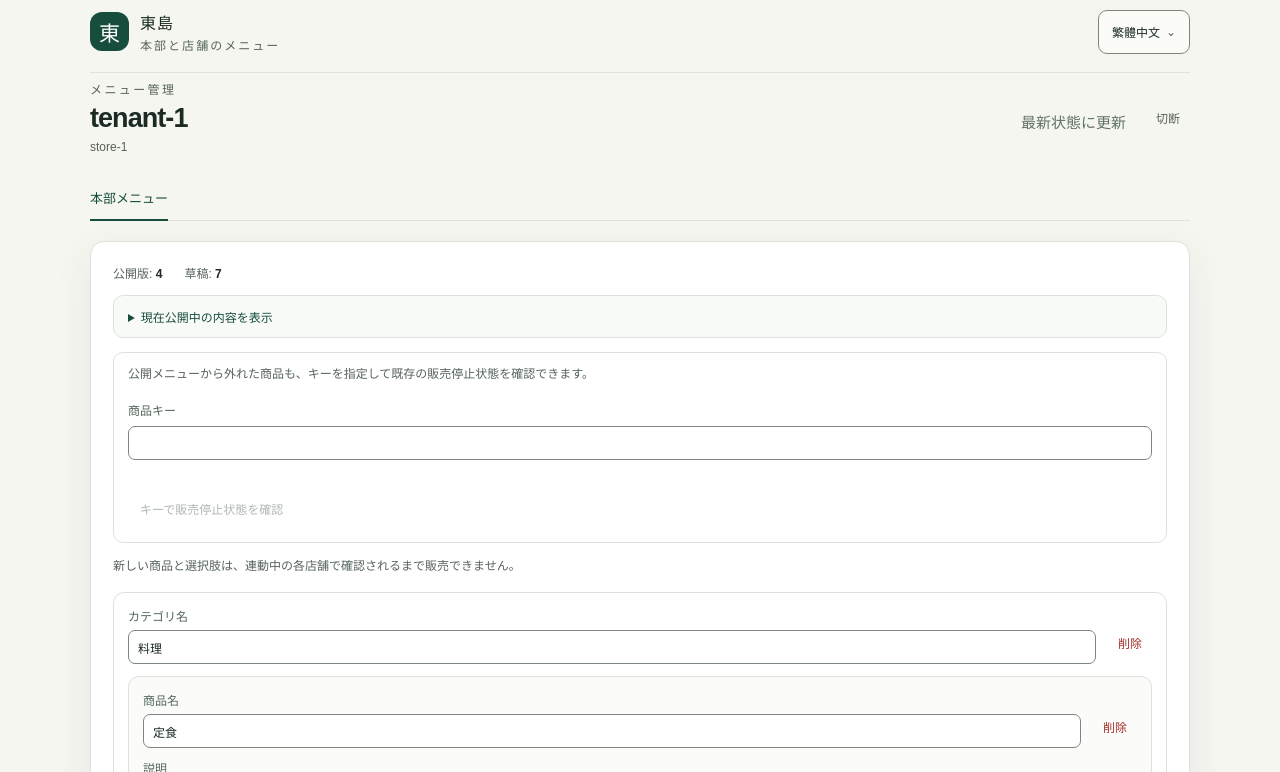
Test: catalog admin UI › fails closed when current hold state cannot be reloaded after a successful write
Expected: the button "切断" is shown, [1146, 95, 1190, 139]
Expected: the button "最新状態に更新" is enabled, [1015, 110, 1132, 132]
Click the heading "現在公開中の内容を表示" at (207, 318), box [141, 311, 273, 325]
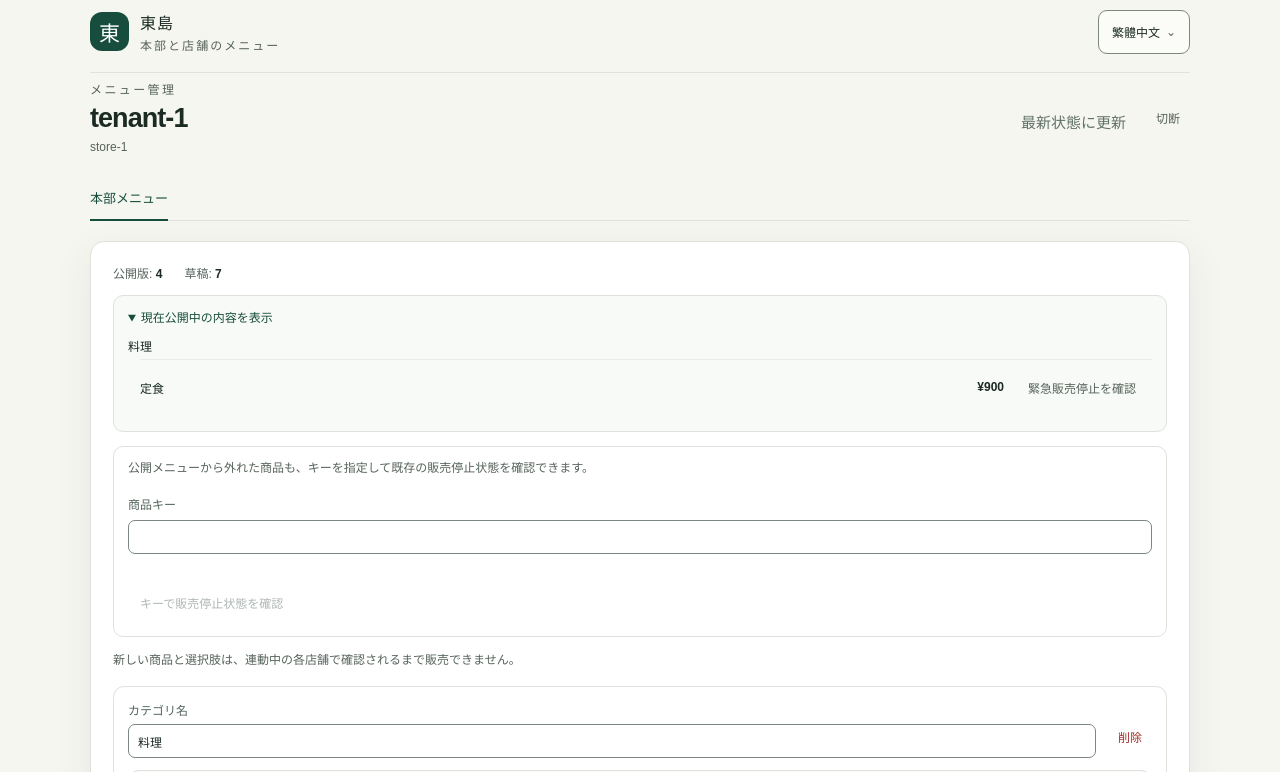
Click the button "緊急販売停止を確認" at (1082, 387), box [1020, 365, 1144, 409]
(page scrolled)
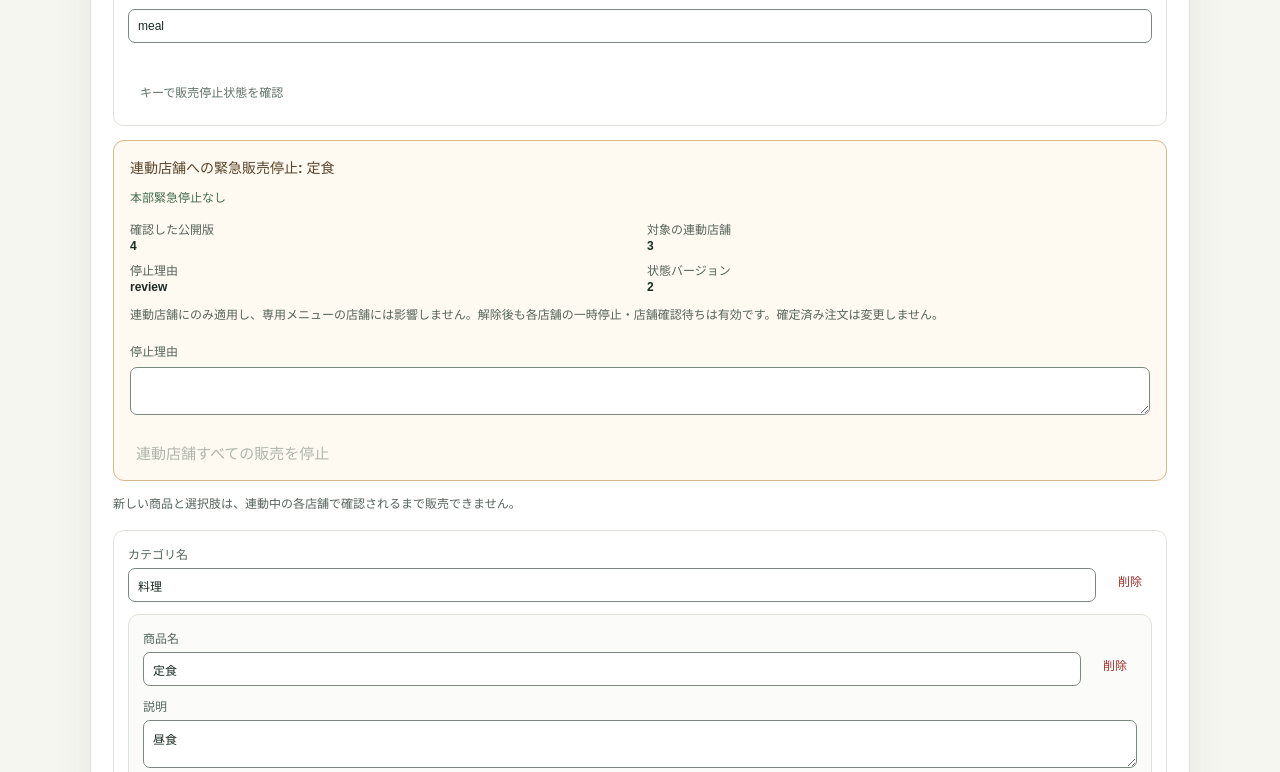
Now the text "本部緊急停止なし" is shown, box [130, 191, 226, 205]
Type "確認" into the text box labelled "停止理由" at (640, 391), box [130, 367, 1150, 415]
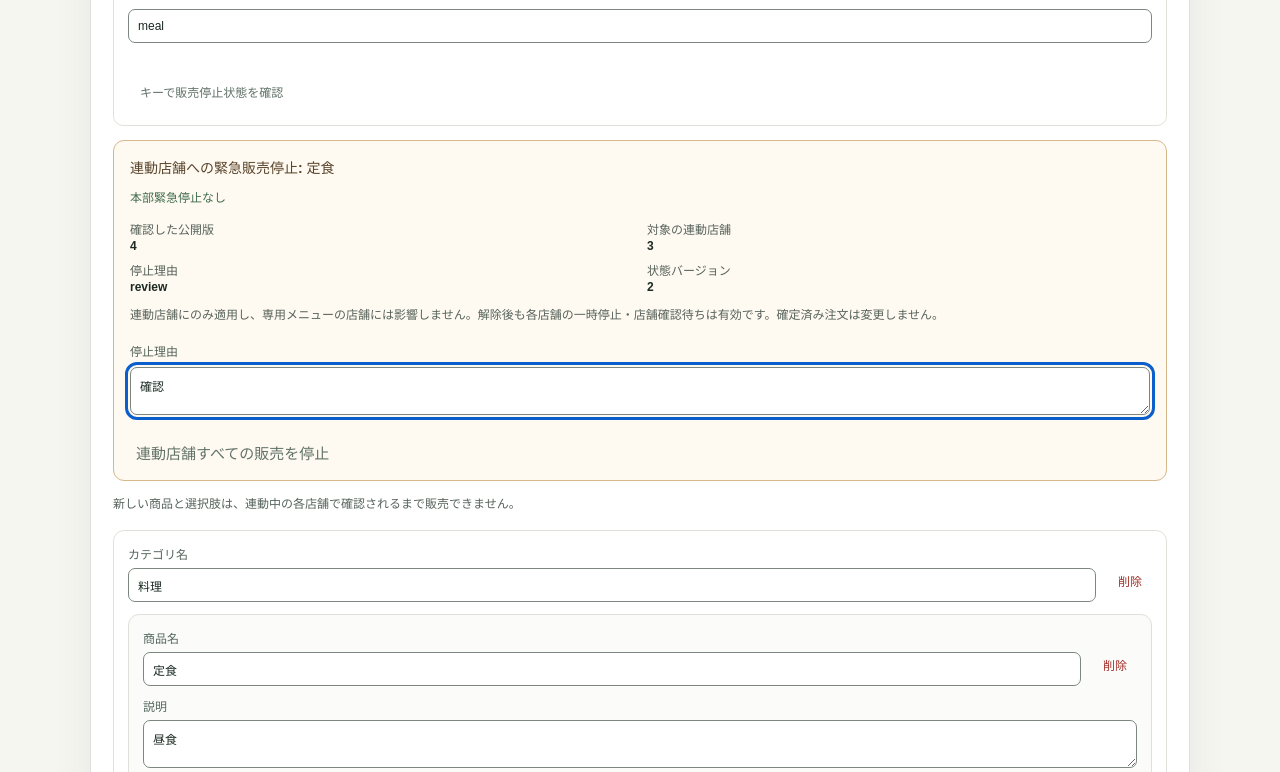
Click the button "連動店舗すべての販売を停止" at (233, 453), box [130, 441, 335, 464]
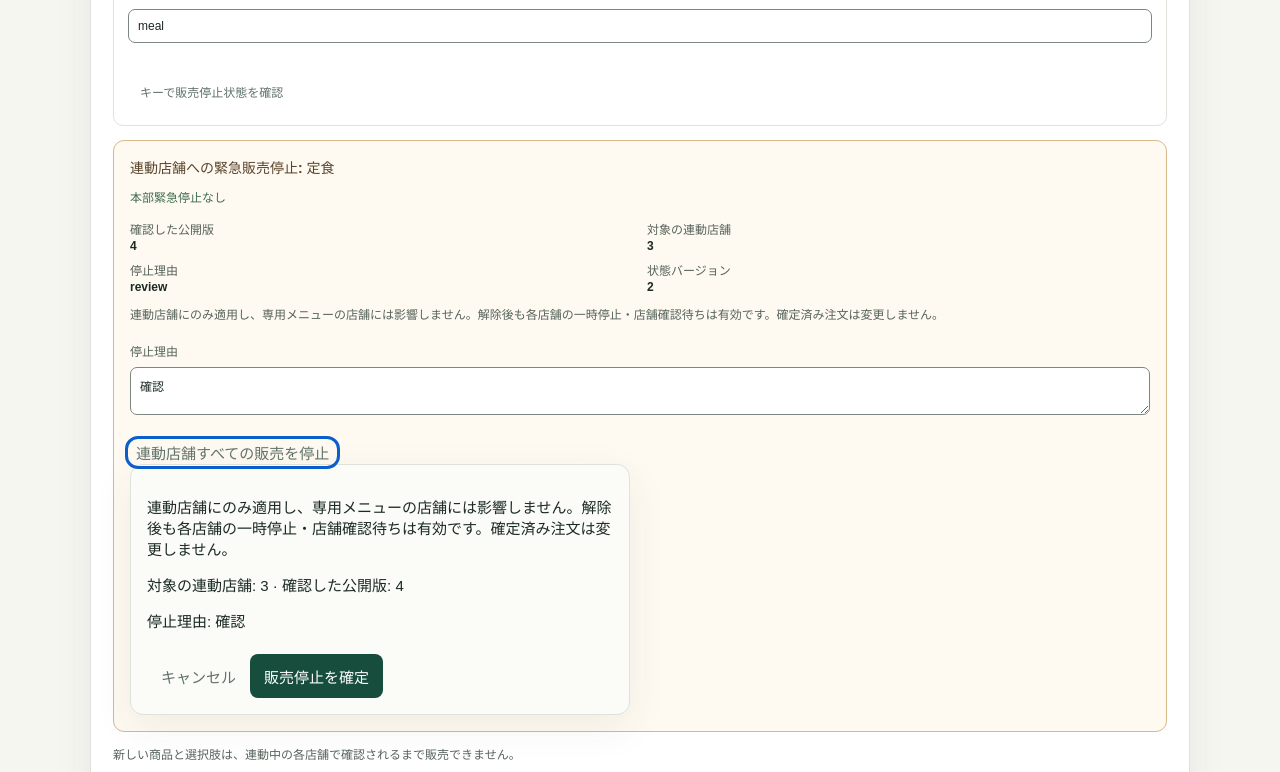
Click the button "販売停止を確定" at (316, 676), box [250, 654, 383, 698]
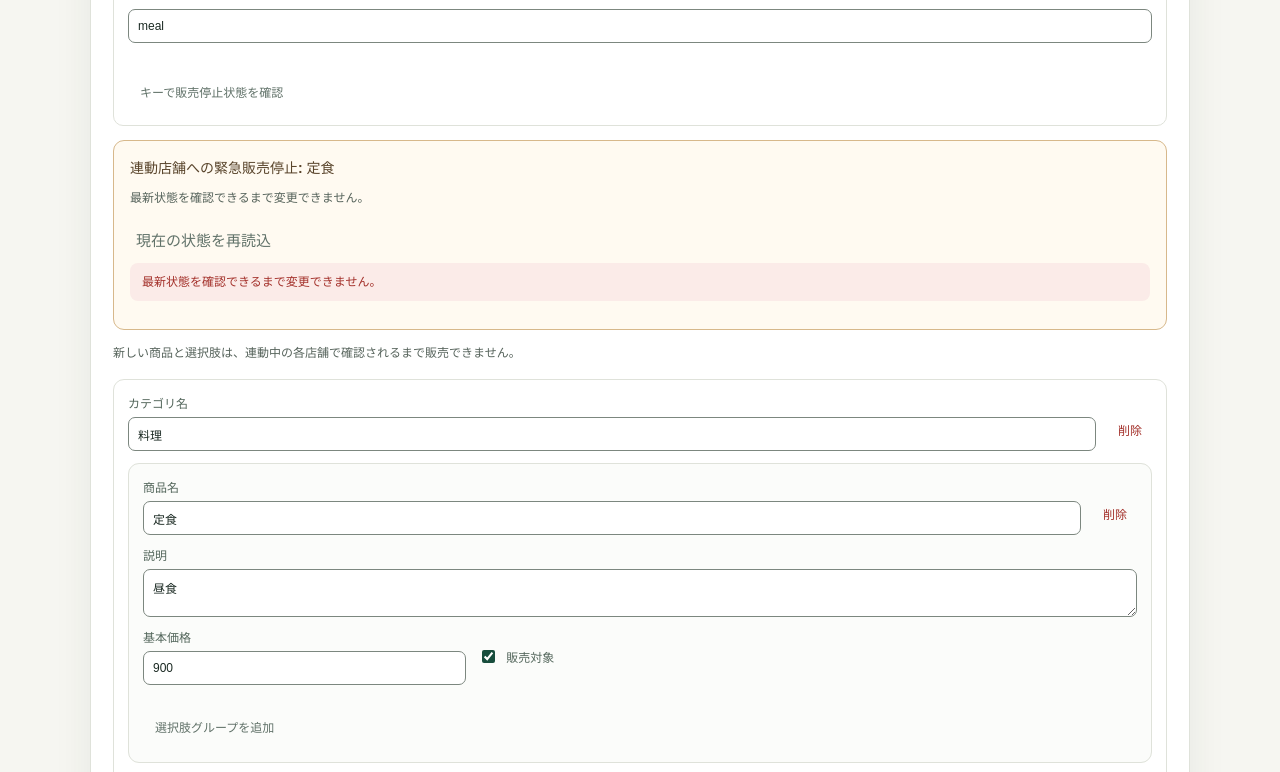
Now the button "現在の状態を再読込" is shown
Now the message reads "最新状態を確認できるまで変更できません。", box [142, 275, 381, 289]
Now the text labelled "停止理由" is gone
Click the button "現在の状態を再読込" at (204, 239), box [130, 228, 277, 251]
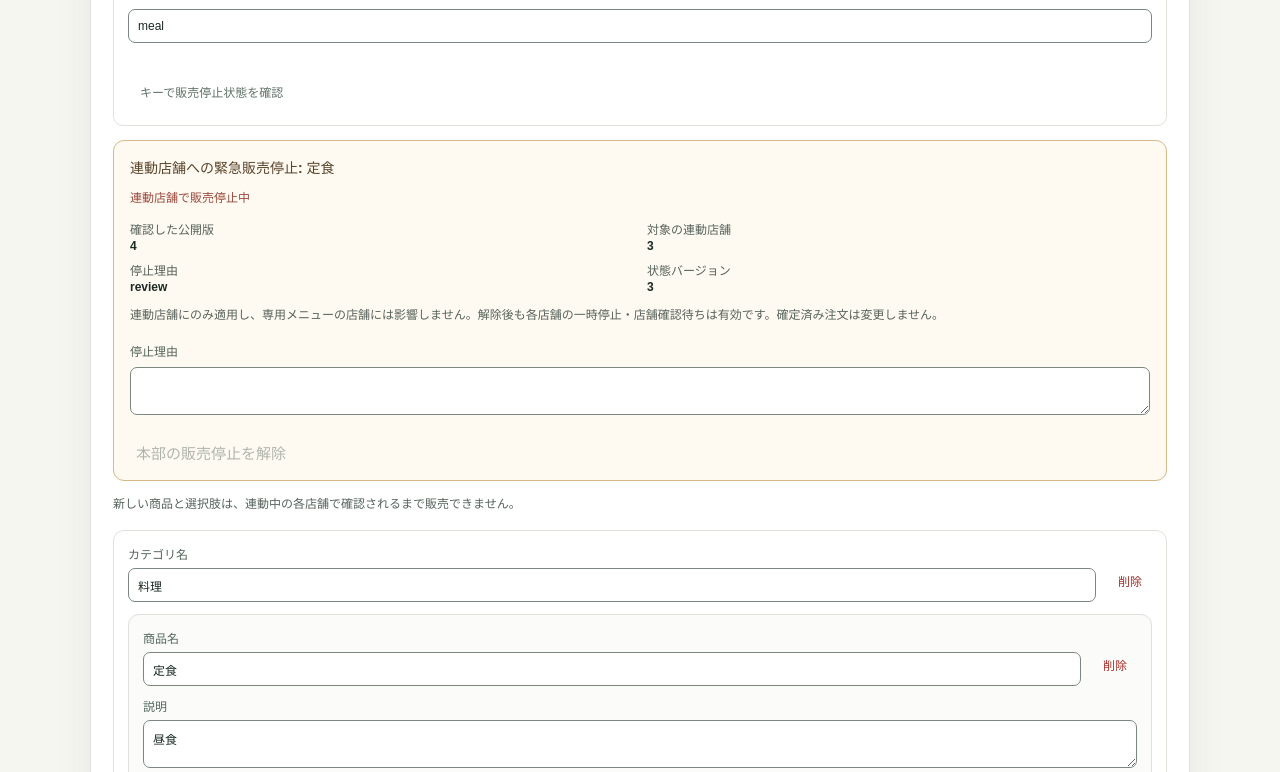
Now the text "連動店舗で販売停止中" is shown, box [130, 191, 250, 205]
